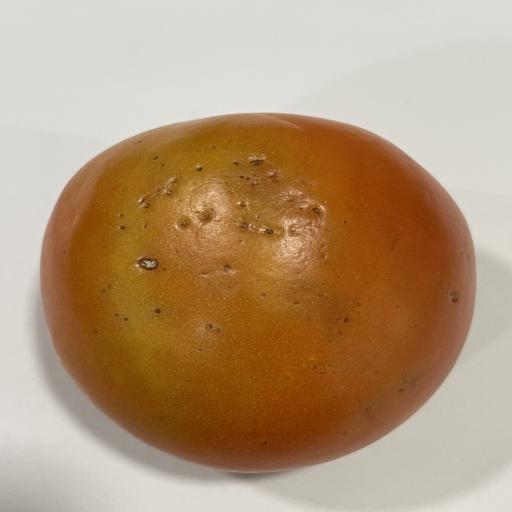unripe: (40, 114, 476, 473)
